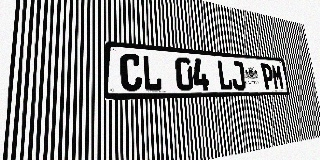0: (175, 57, 194, 91)
4: (192, 58, 210, 91)
C: (120, 53, 142, 91)
J: (230, 61, 246, 90)
L: (142, 54, 163, 91), (217, 60, 233, 90)
M: (271, 64, 284, 90)
P: (261, 63, 275, 90)
